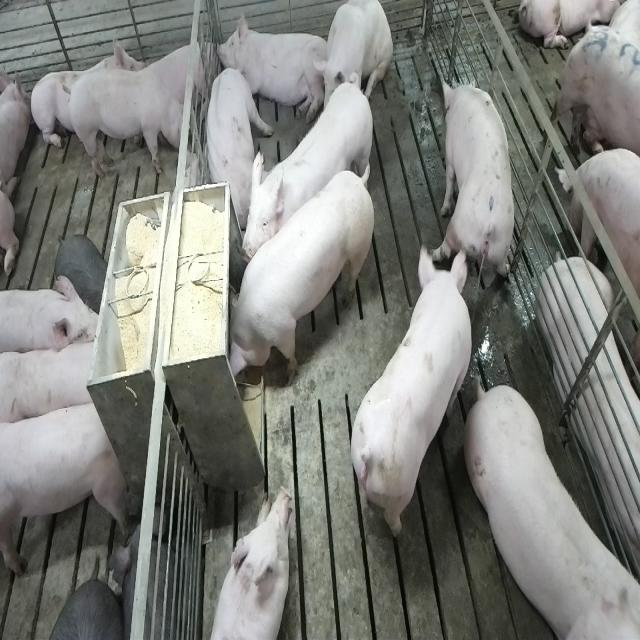Feeding: (218, 164, 370, 388)
Sitting: (314, 2, 394, 132), (203, 64, 265, 220)
Standing: (468, 385, 640, 639), (346, 246, 470, 548), (242, 75, 378, 269), (2, 396, 132, 580), (435, 74, 517, 299), (551, 6, 640, 180), (64, 66, 192, 176), (2, 332, 104, 429), (0, 276, 103, 360)
Sternal_lying: (31, 30, 146, 158), (216, 10, 326, 130), (208, 485, 292, 640), (140, 34, 212, 120)
